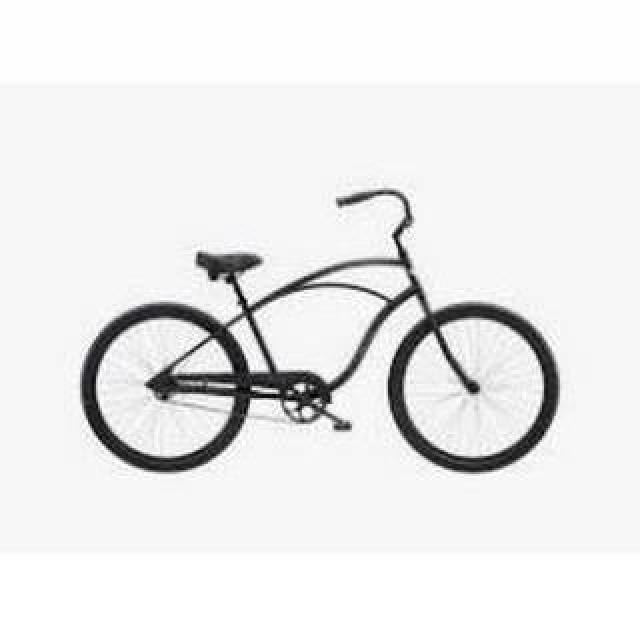Person: (78, 188, 564, 482)
